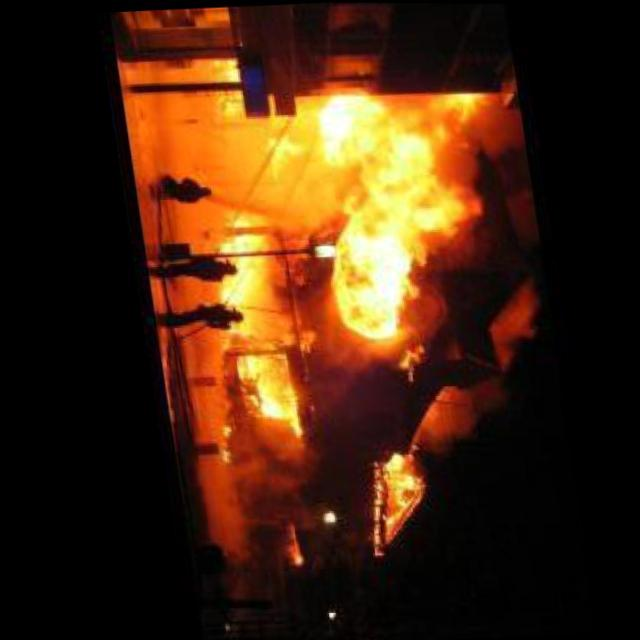fire: (179, 70, 529, 530)
